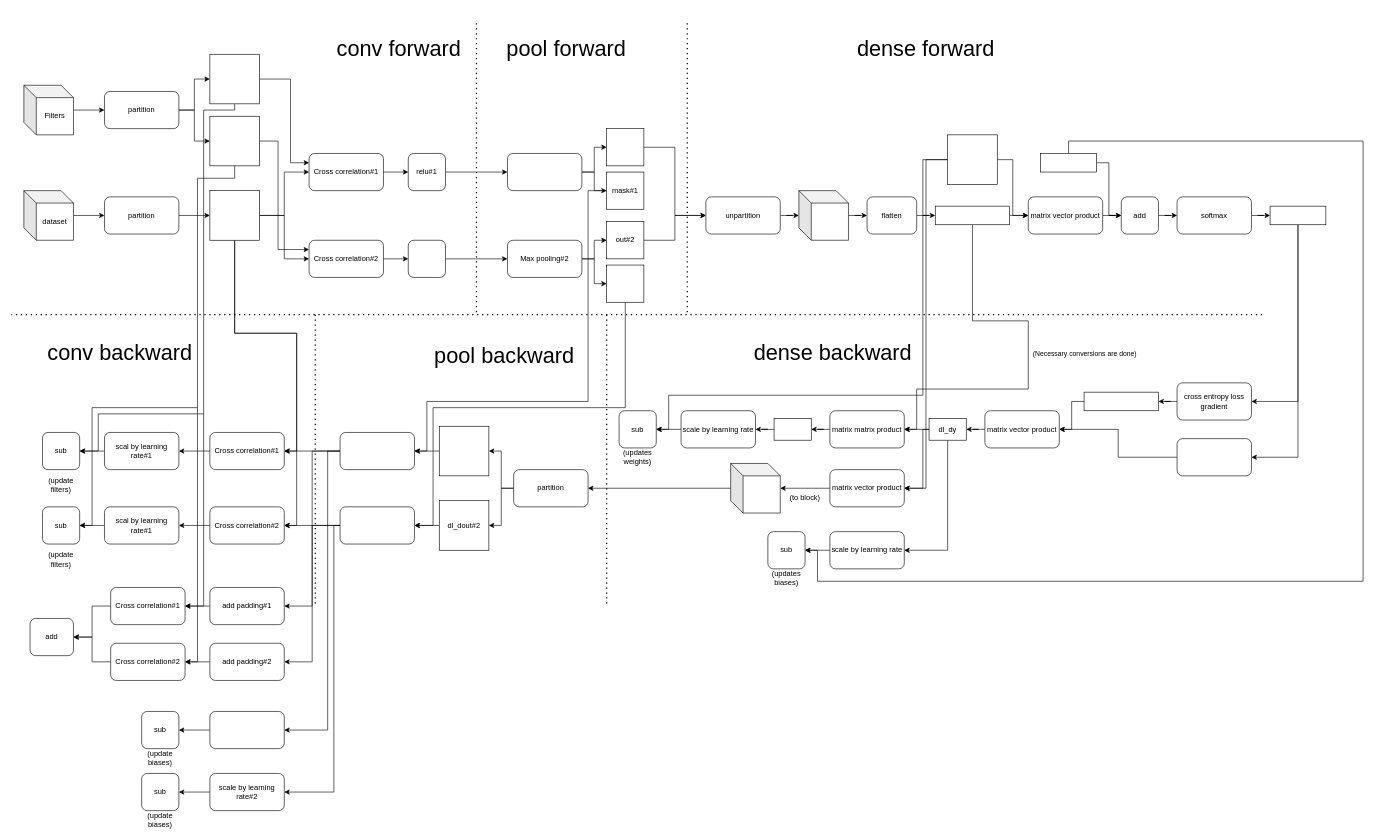
Some shapes in this 1379 by 839 pixel diagram are drawn without their labels. The centre of each missing label's shape, as x and y in pixels:
backward maxpooling#1: the point at 376,451
backward maxpooling#2: the point at 376,525
bias vector: the point at 1068,162
dl_dinput: the point at 755,488
dl_dout#1: the point at 464,451
dl_dw: the point at 792,429
Filters#1: the point at 234,79
Filters#2: the point at 234,141
gradient vector: the point at 1120,401
Image#n: the point at 234,215
mask#2: the point at 625,283
Max pooling#1: the point at 544,172
out forward merged: the point at 823,215
out forward vector: the point at 972,215
out#1: the point at 625,147
predictions: the point at 1297,215
relu#2: the point at 426,258
scale by learning rate#1: the point at 246,730
softmax derivative: the point at 1213,457
Weights: the point at 972,159
